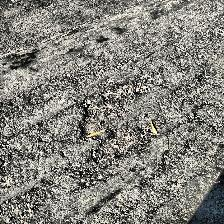pothole: (76, 82, 156, 166), (0, 185, 48, 223)
